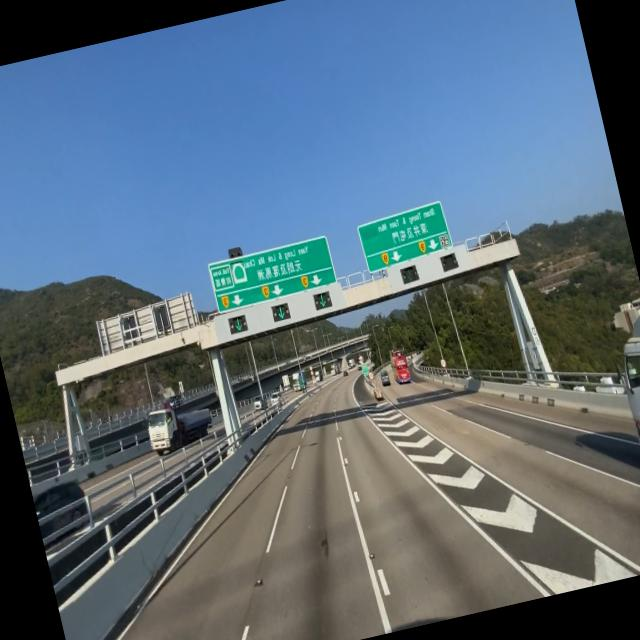Vehicle: (386, 342, 414, 392)
